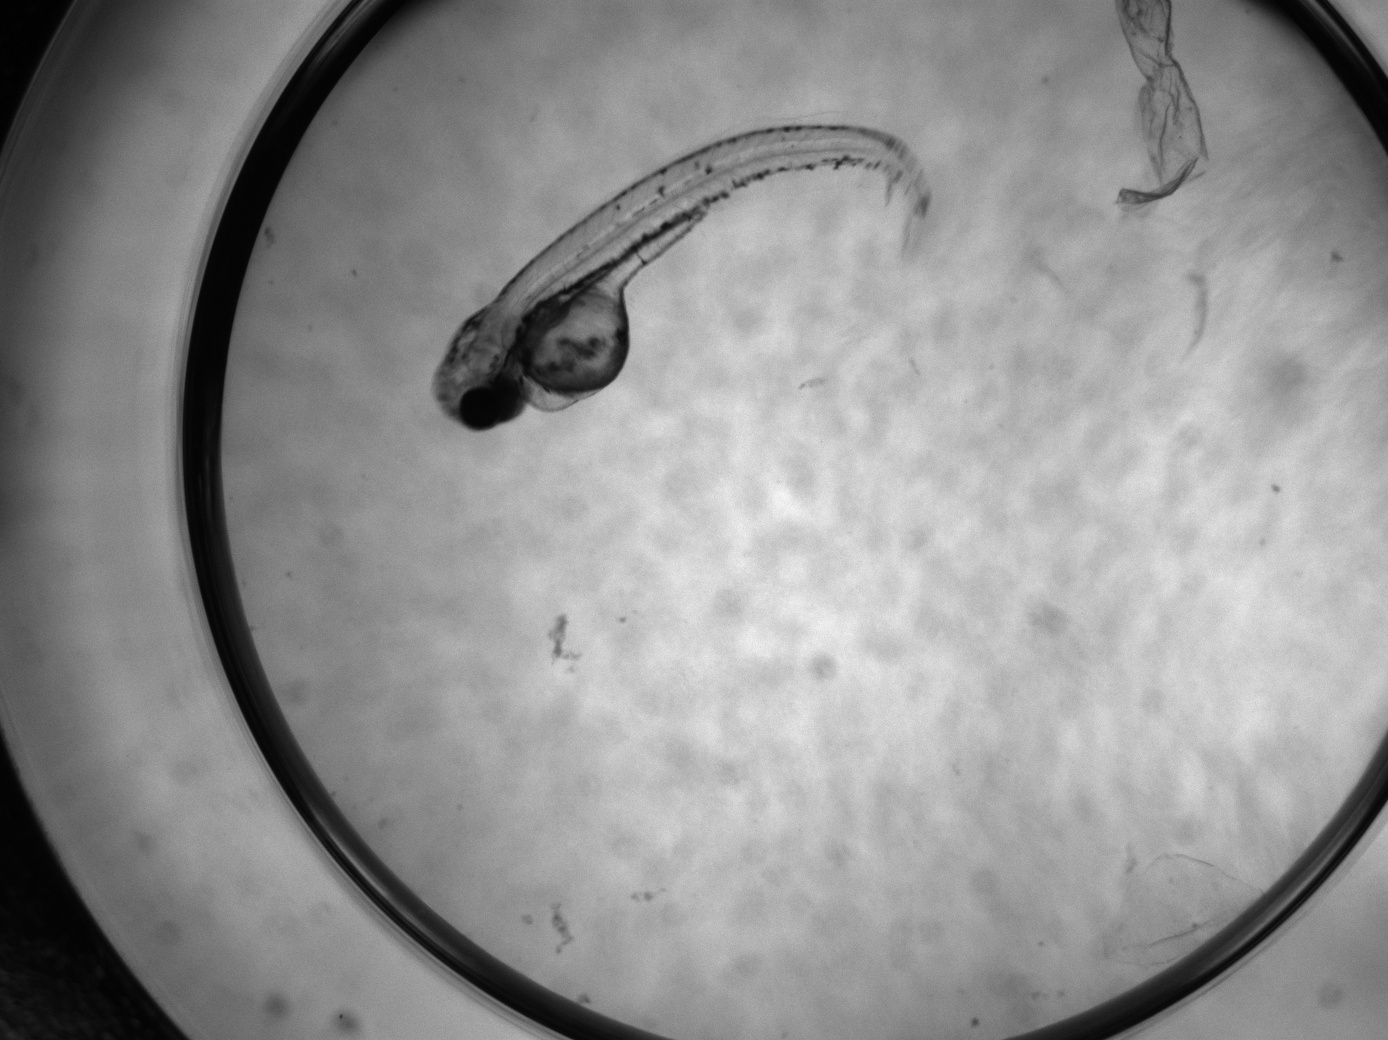debris: (1110, 1, 1215, 213)
embryo: (431, 123, 933, 432)
eye: (460, 386, 502, 430)
yolksac: (515, 282, 631, 412)
